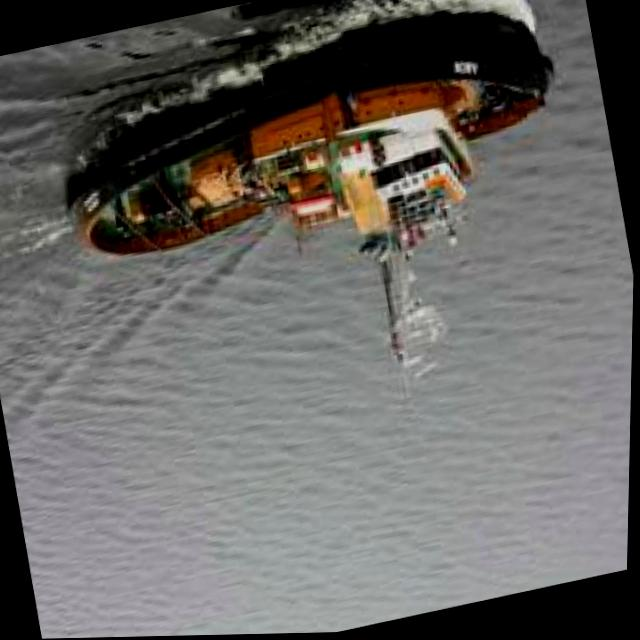ship2: (66, 12, 554, 367)
